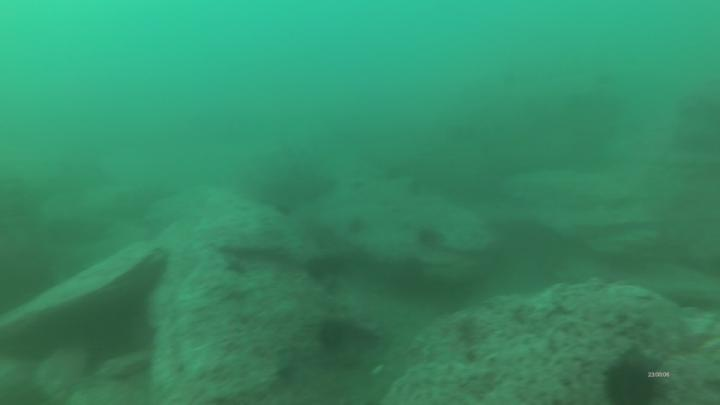echinus: (609, 365, 653, 405), (317, 321, 347, 349), (418, 226, 443, 252), (305, 258, 329, 282)
